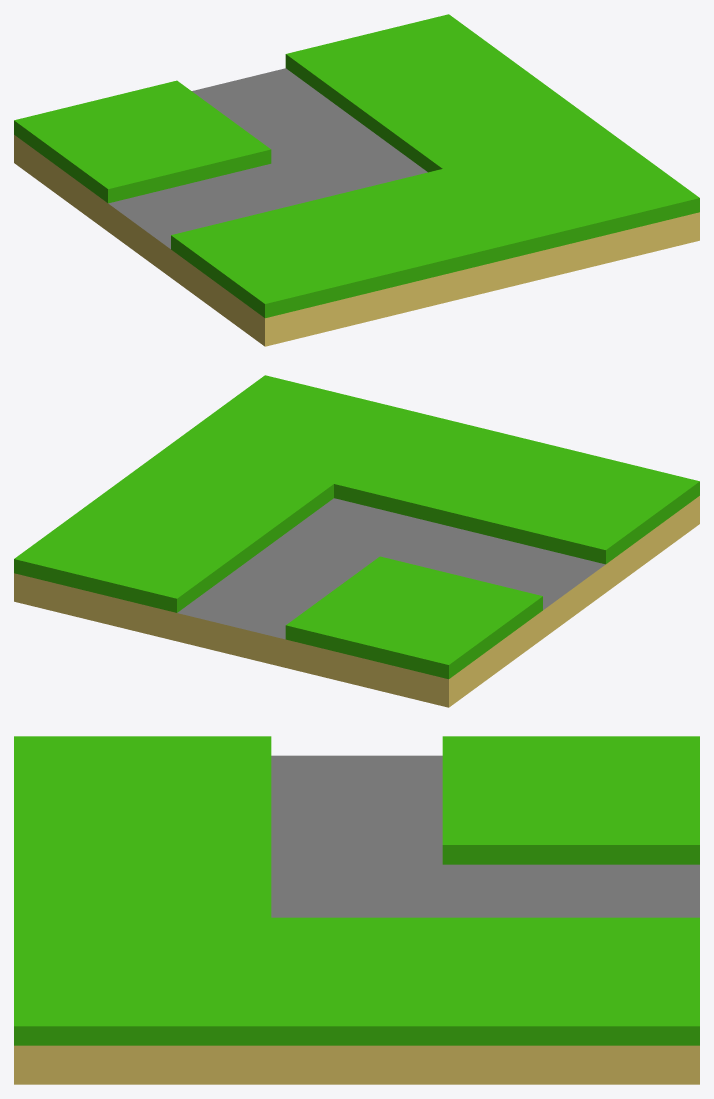
The model's file is kurfe.gltf.
3 views of the same model, one above another, from view 1: azimuth 30°, elevation 25°; view 2: azimuth 150°, elevation 25°; view 3: azimuth 270°, elevation 25° (orthographic). The views are drawn at different scales.
Parts seen in each view (by area): view 1: cube (×4); view 2: cube (×4); view 3: cube (×4).
Boxes of the visible parts, x1,y1,x2,y2 form: cube (×4): [14, 14, 699, 346]; cube (×4): [14, 375, 699, 707]; cube (×4): [14, 736, 699, 1084].
Size of the model in its own units: 1 by 0.0938 by 1.
Materials: 4 (4 with a texture image).
